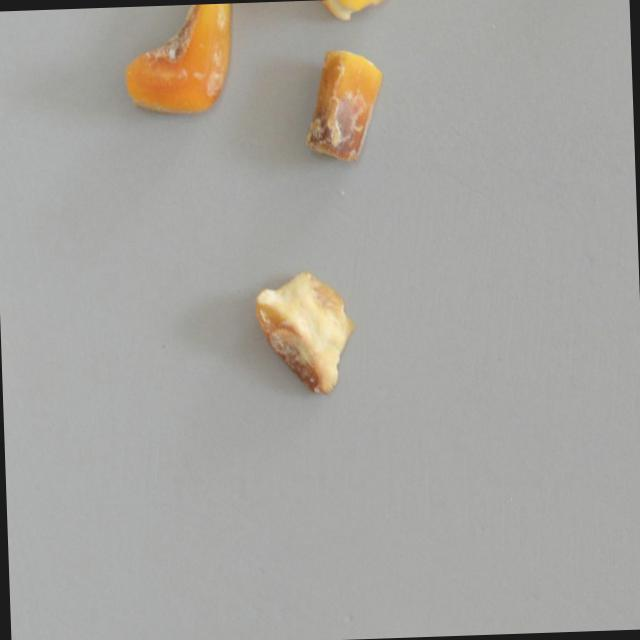dañado: (250, 265, 360, 398), (121, 3, 241, 122), (299, 44, 386, 164)
pelicula: (309, 0, 398, 25)
